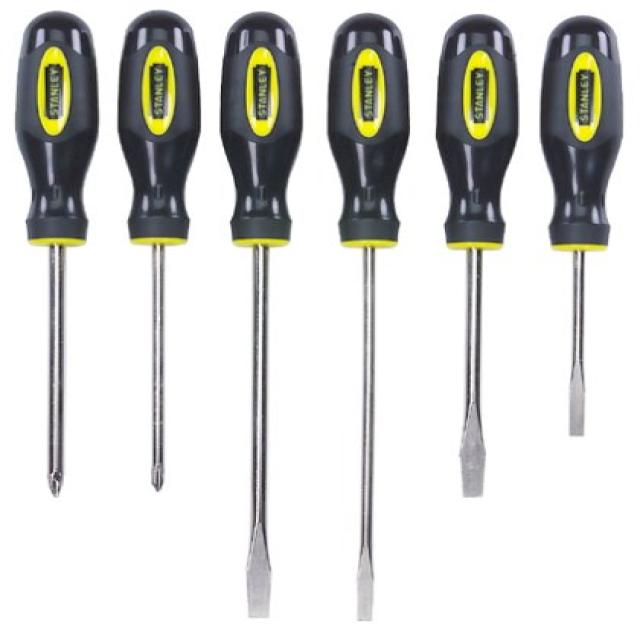Screwdriver: (327, 14, 409, 621), (220, 12, 302, 618), (15, 11, 98, 496), (118, 11, 201, 491), (436, 15, 518, 497), (540, 16, 622, 436)
